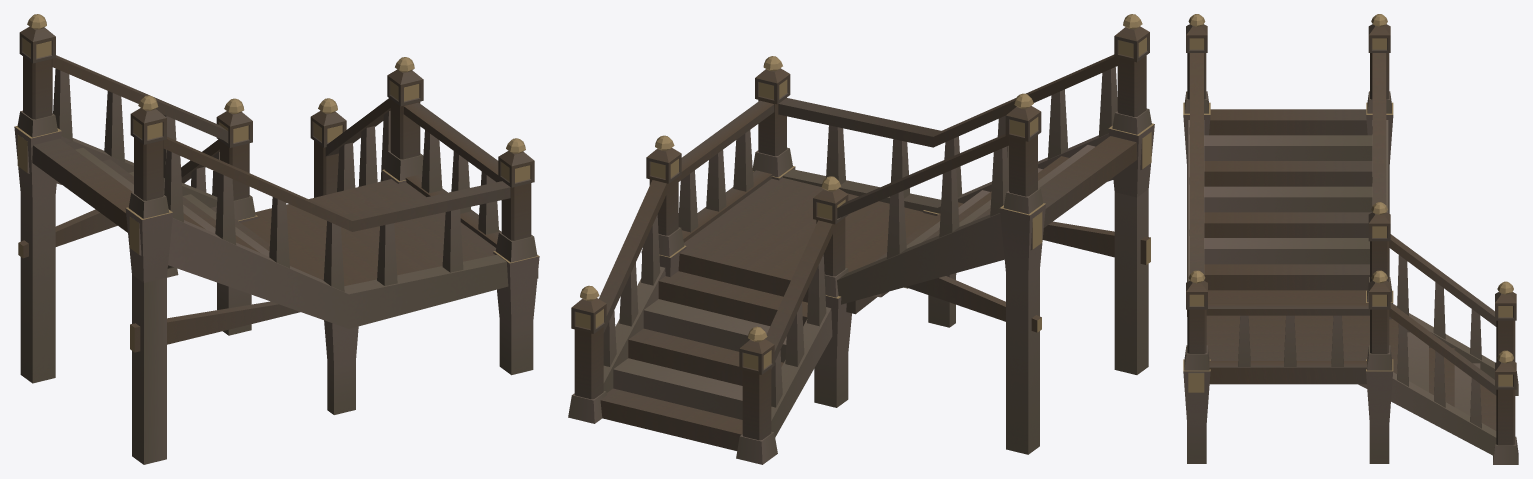
File: Stair_2_R.fbx
3 views of the same model, side by side, from view 1: azimuth 30°, elevation 25°; view 2: azimuth 150°, elevation 25°; view 3: azimuth 270°, elevation 25° (orthographic). The views are drawn at different scales.
Parts seen in each view (by area): view 1: pCube806; view 2: pCube806; view 3: pCube806.
Part boxes in pixels (box(x1,y1,x2,y2)): pCube806: box(14, 14, 539, 464); pCube806: box(568, 14, 1154, 464); pCube806: box(1183, 14, 1518, 464).
Size of the model in its own units: 698 by 602 by 616.
